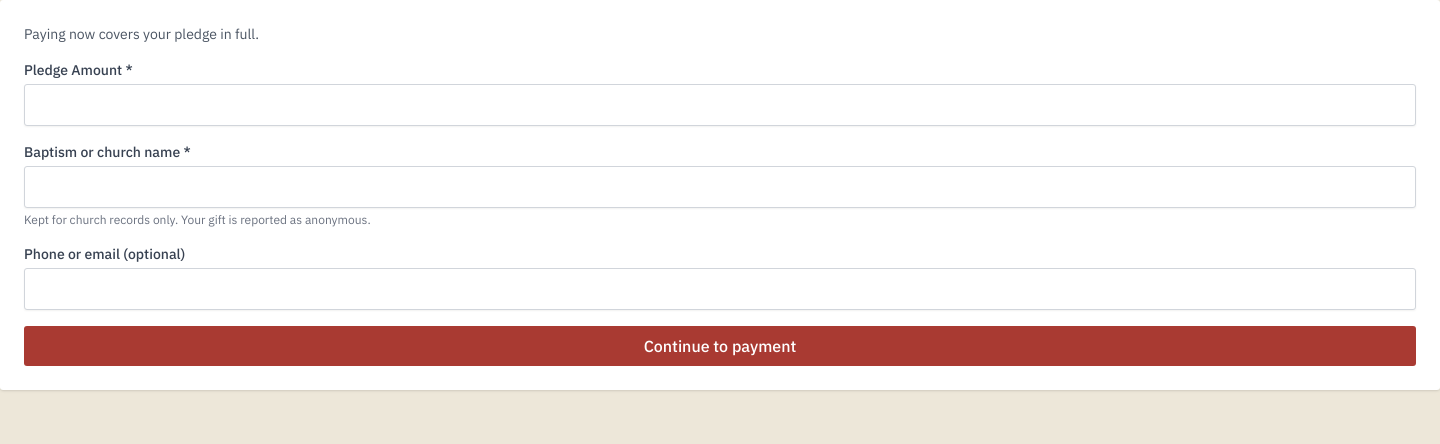
Test: PledgeCheckoutForm › refuses to continue anonymously without a baptism name
Type "250" into the number field labelled "Pledge Amount *" at (720, 105), box top-left (24, 84), bottom-right (1416, 126)
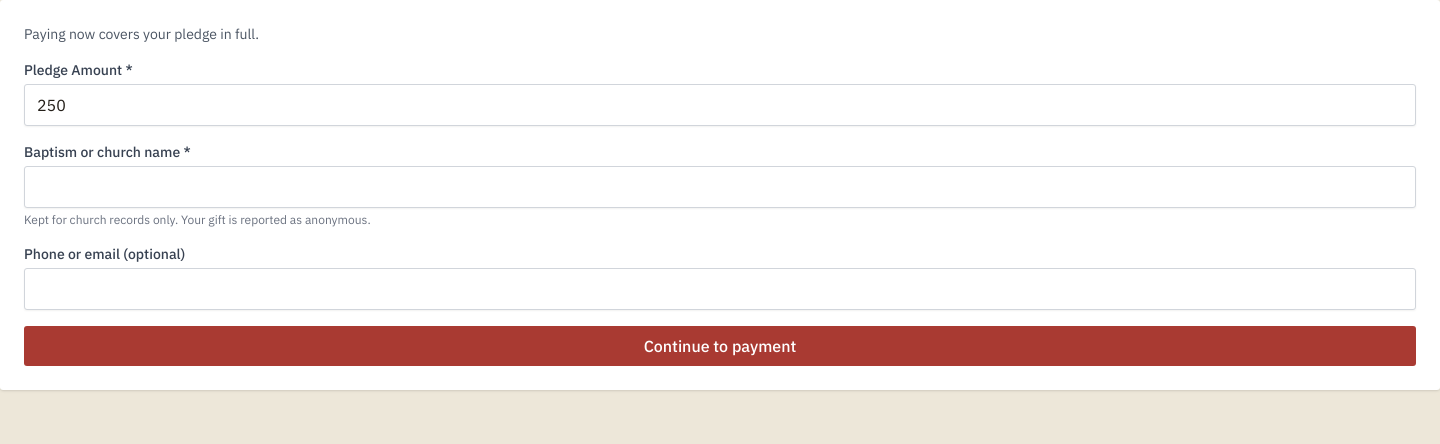
Click the button "Continue to payment" at (720, 346), box top-left (24, 326), bottom-right (1416, 366)
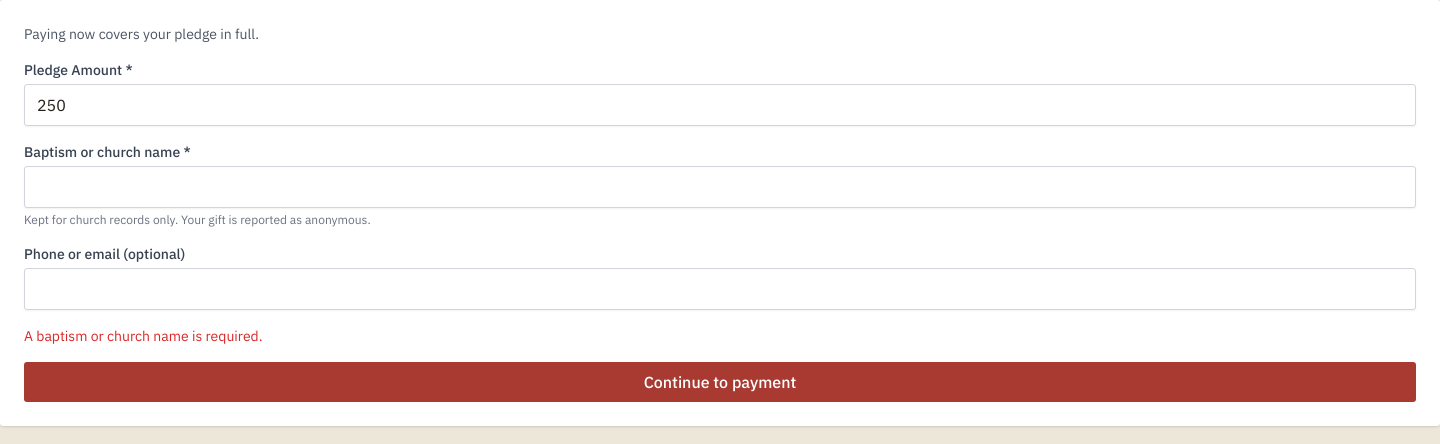
Expected: the text "A baptism or church name is required." is shown, top-left (24, 327), bottom-right (262, 345)
